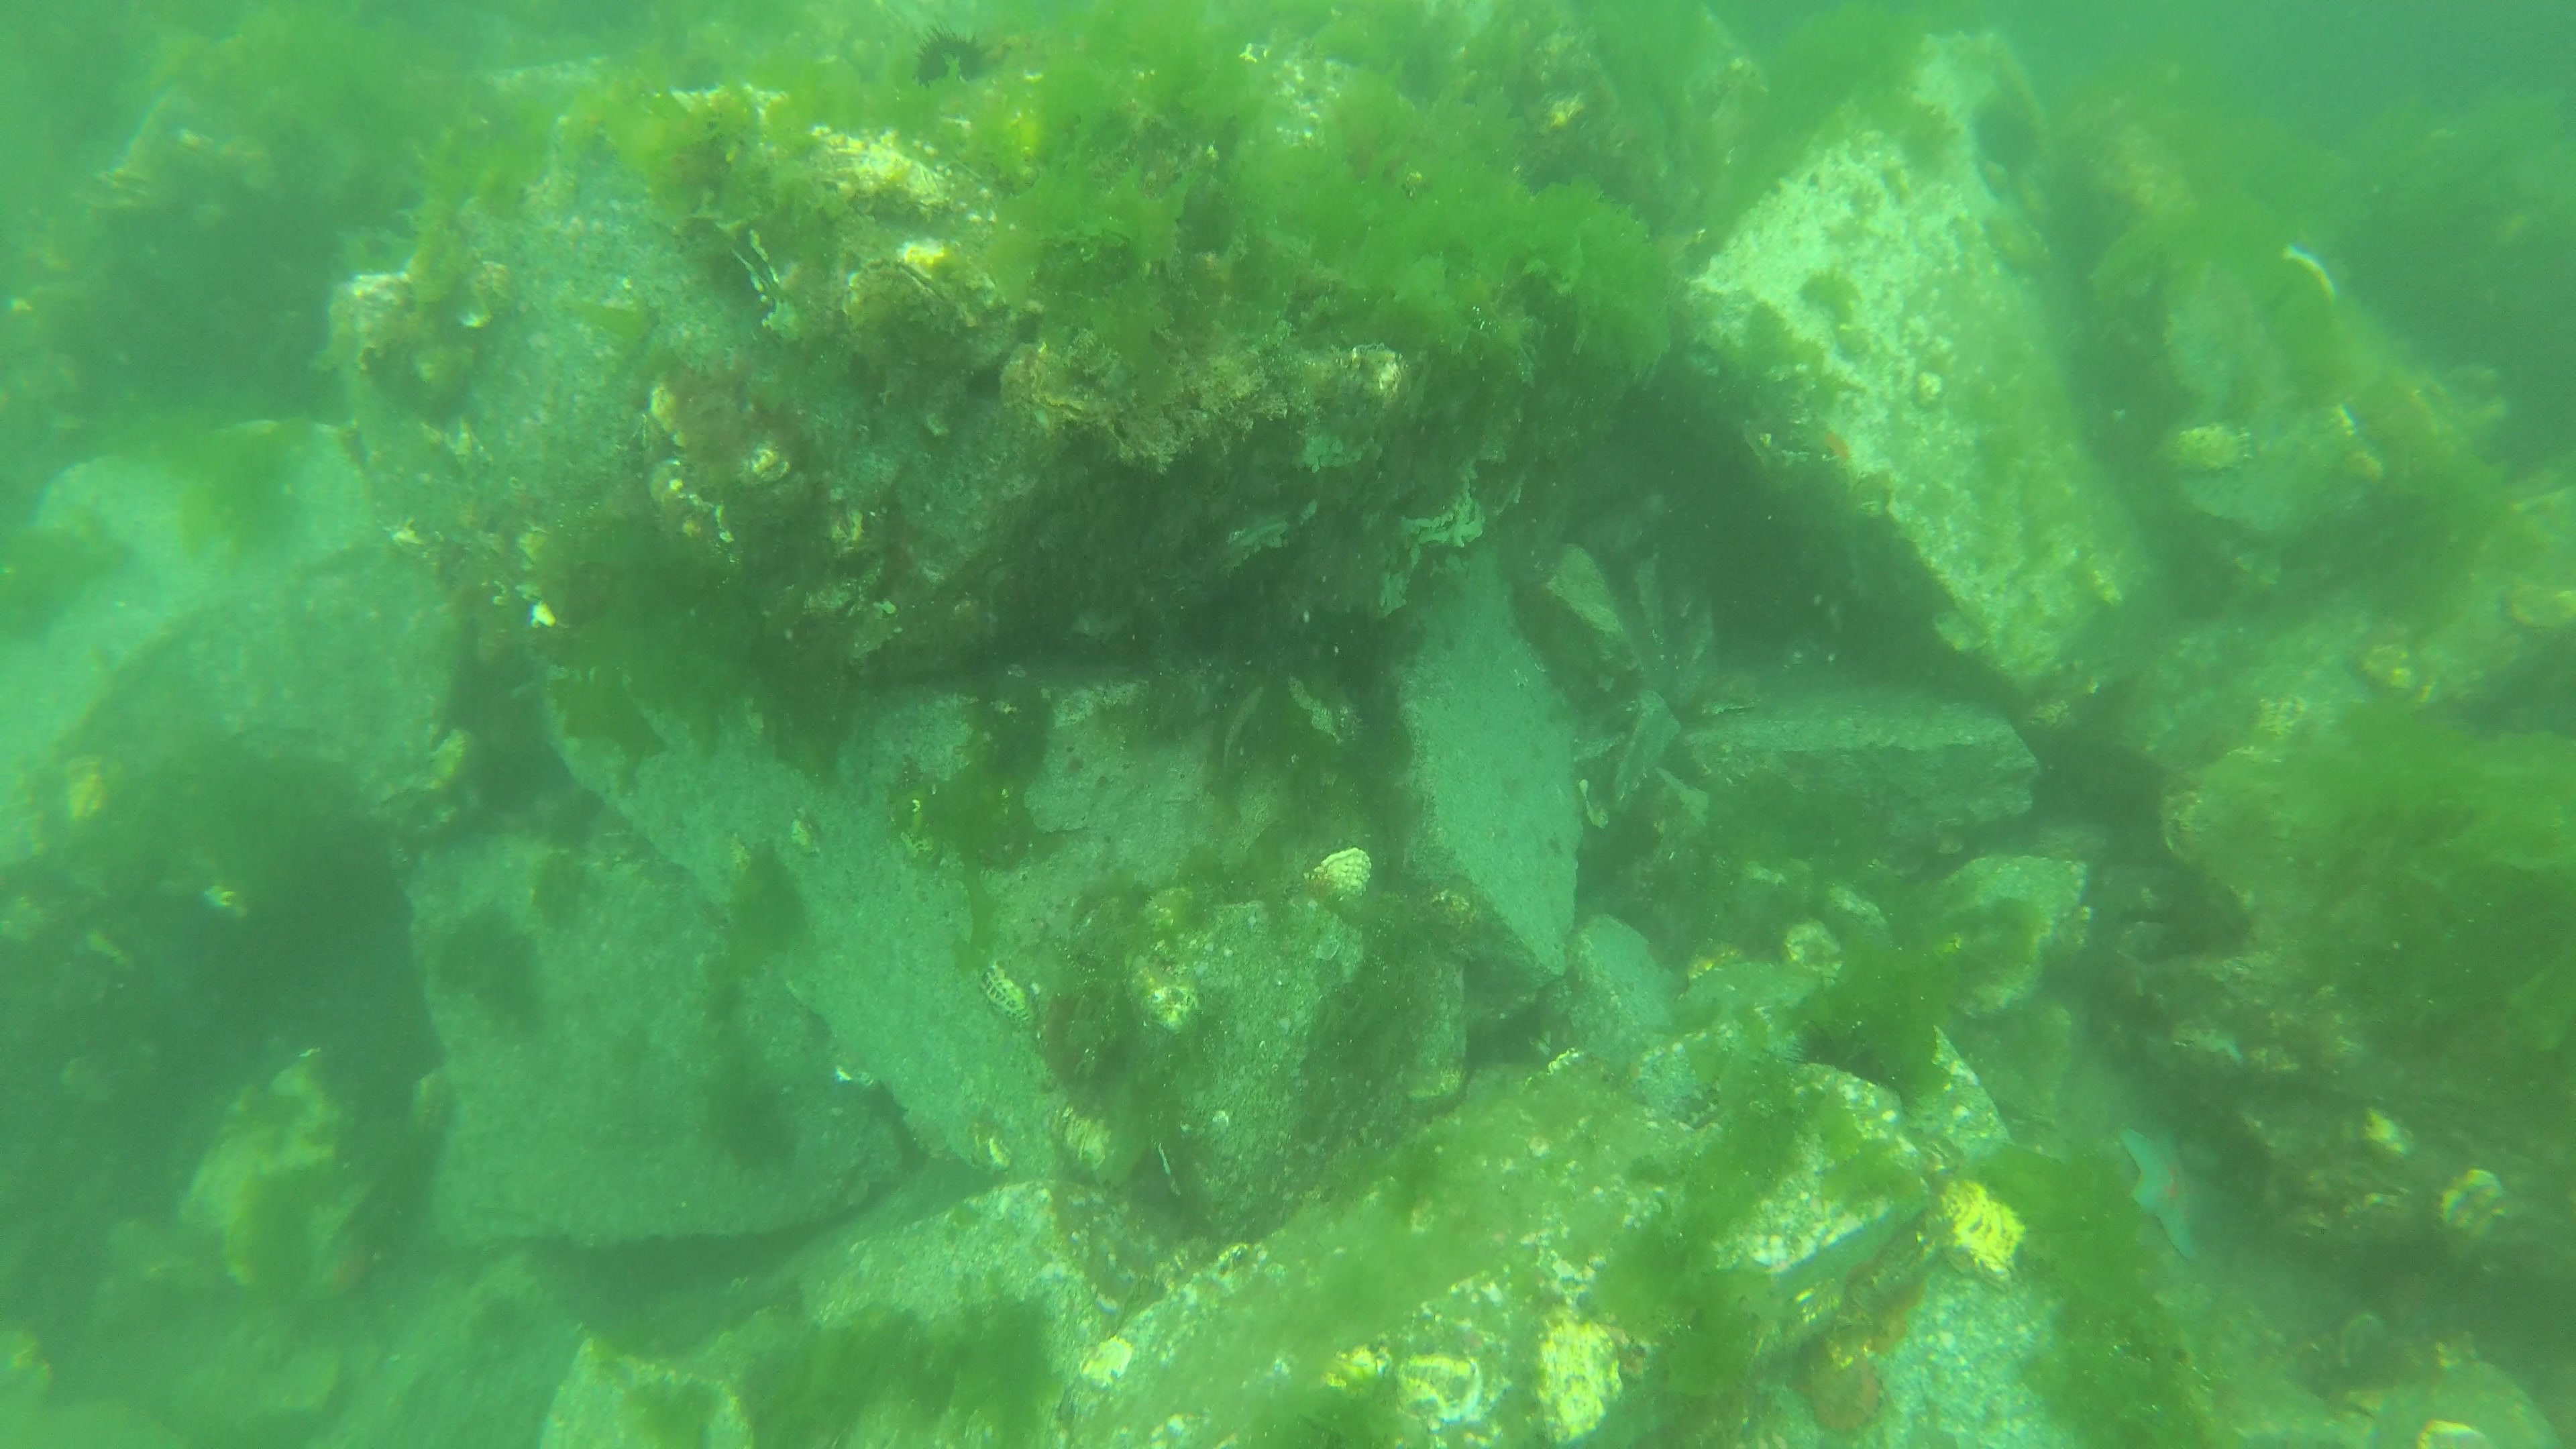echinus: (897, 16, 1001, 94)
starfish: (2109, 1113, 2222, 1258)
